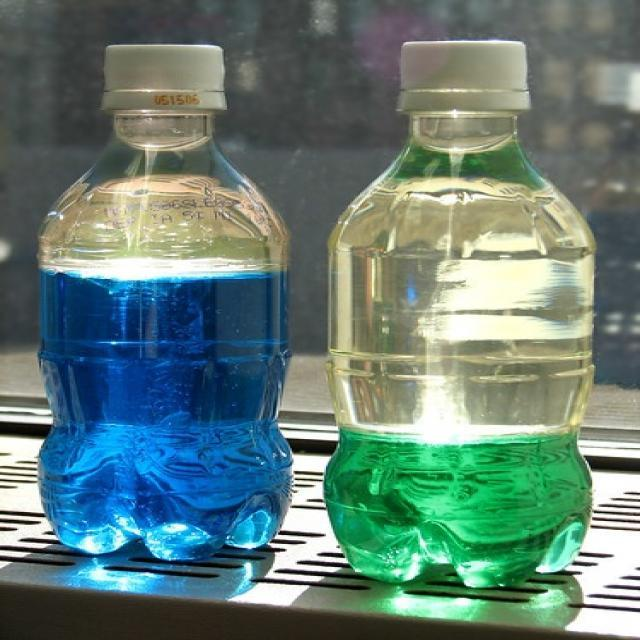plastic_bottle: (324, 40, 598, 588), (37, 44, 295, 560)
